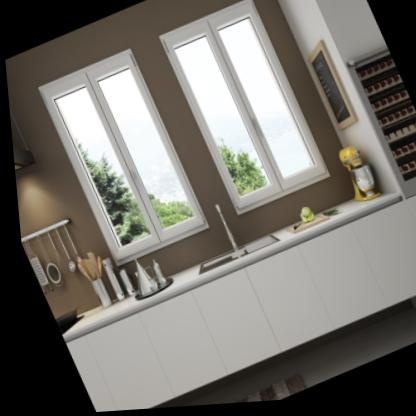Window: (34, 45, 210, 272), (156, 0, 329, 220)
